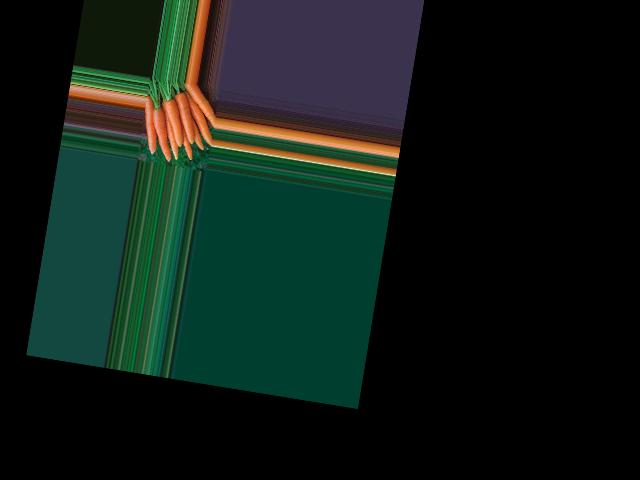carrot: (174, 83, 221, 134)
